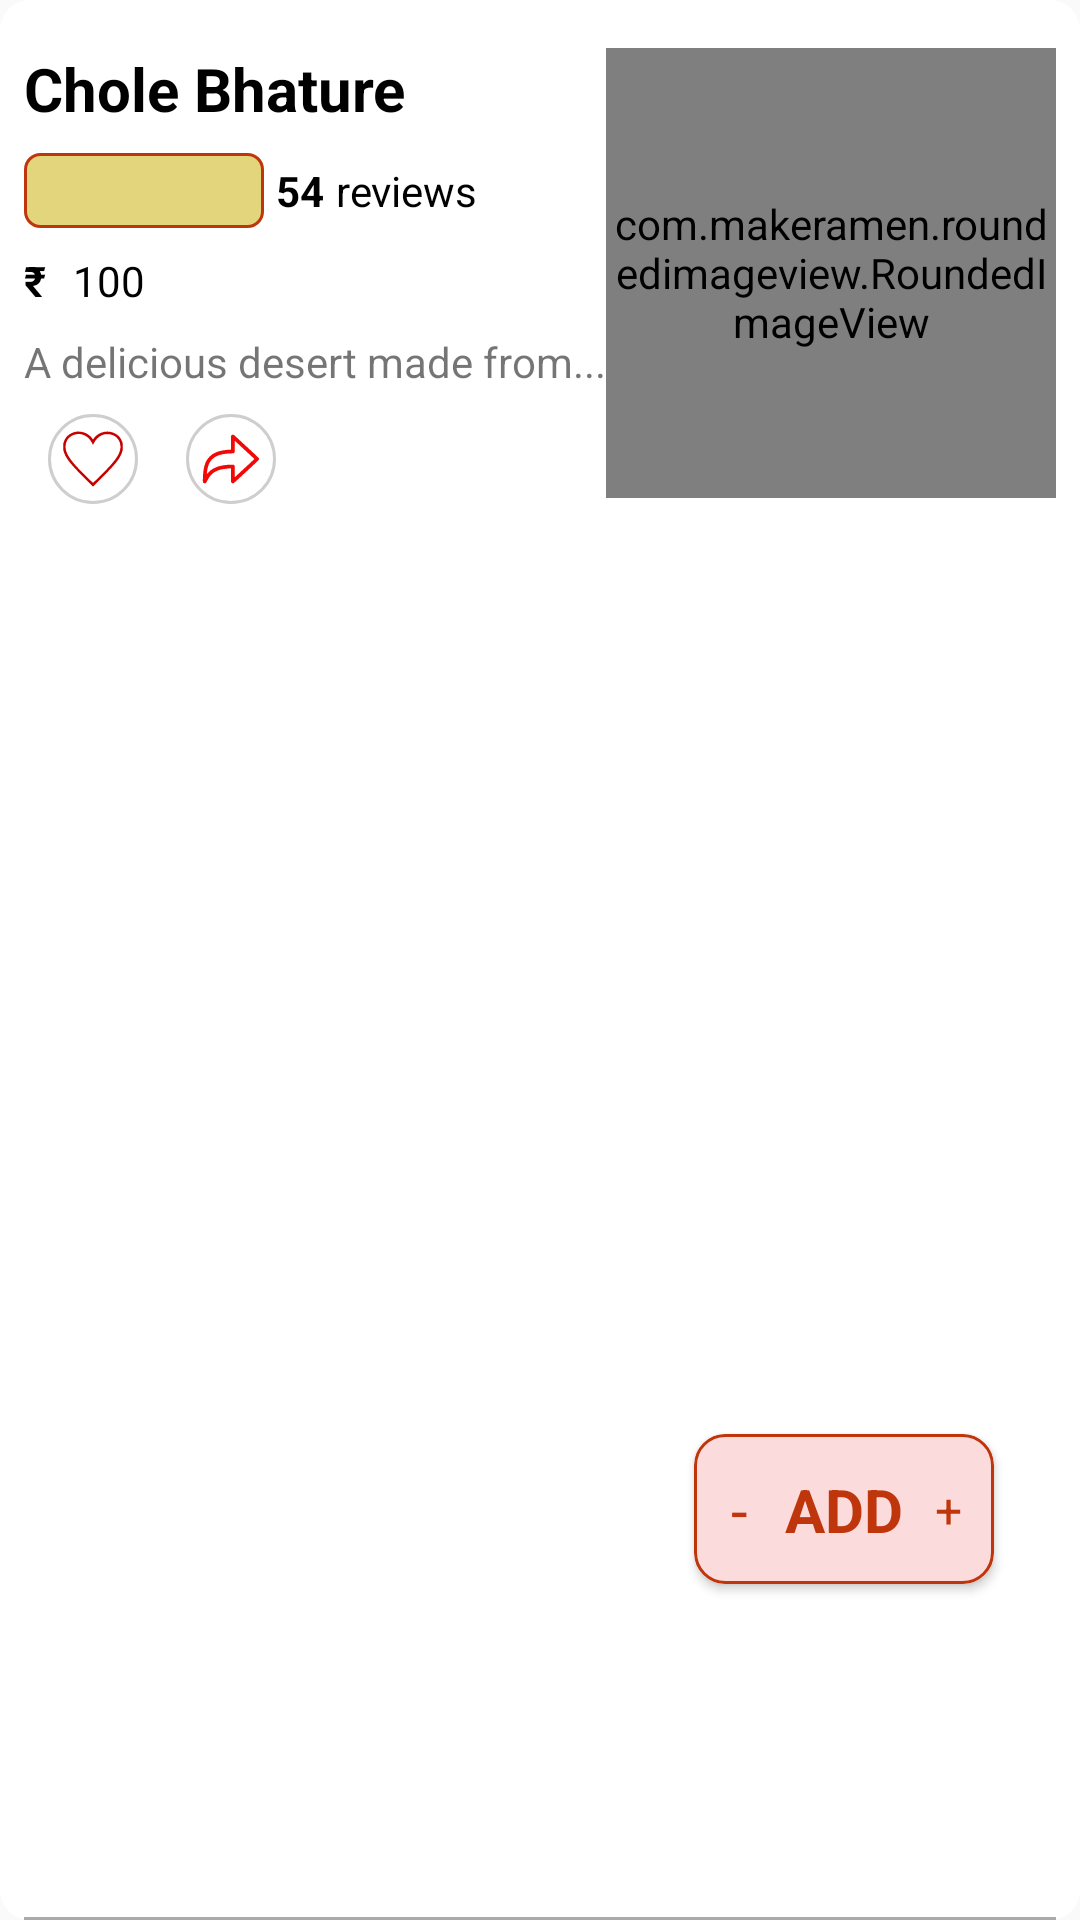

Named icons in this screenshot (1080 x 1920) and their bounding boxes, (x1, y1, x2, y2):
heart: (63, 431, 123, 487)
share: (202, 434, 259, 484)
